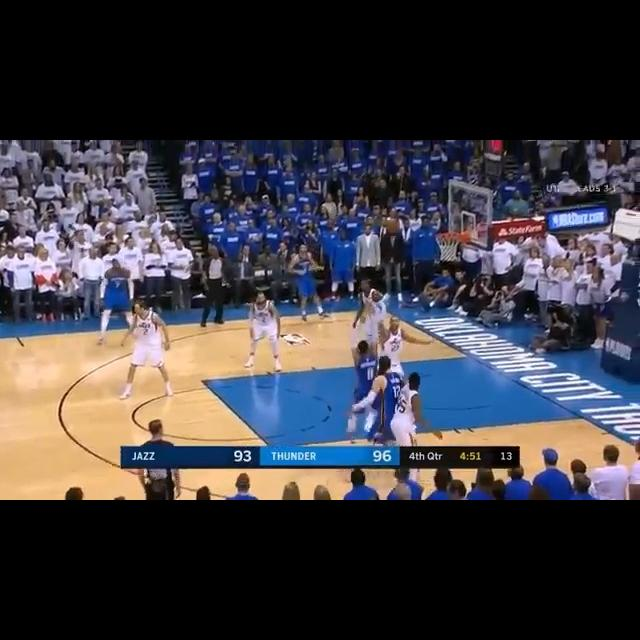hoop: (435, 232, 466, 261)
